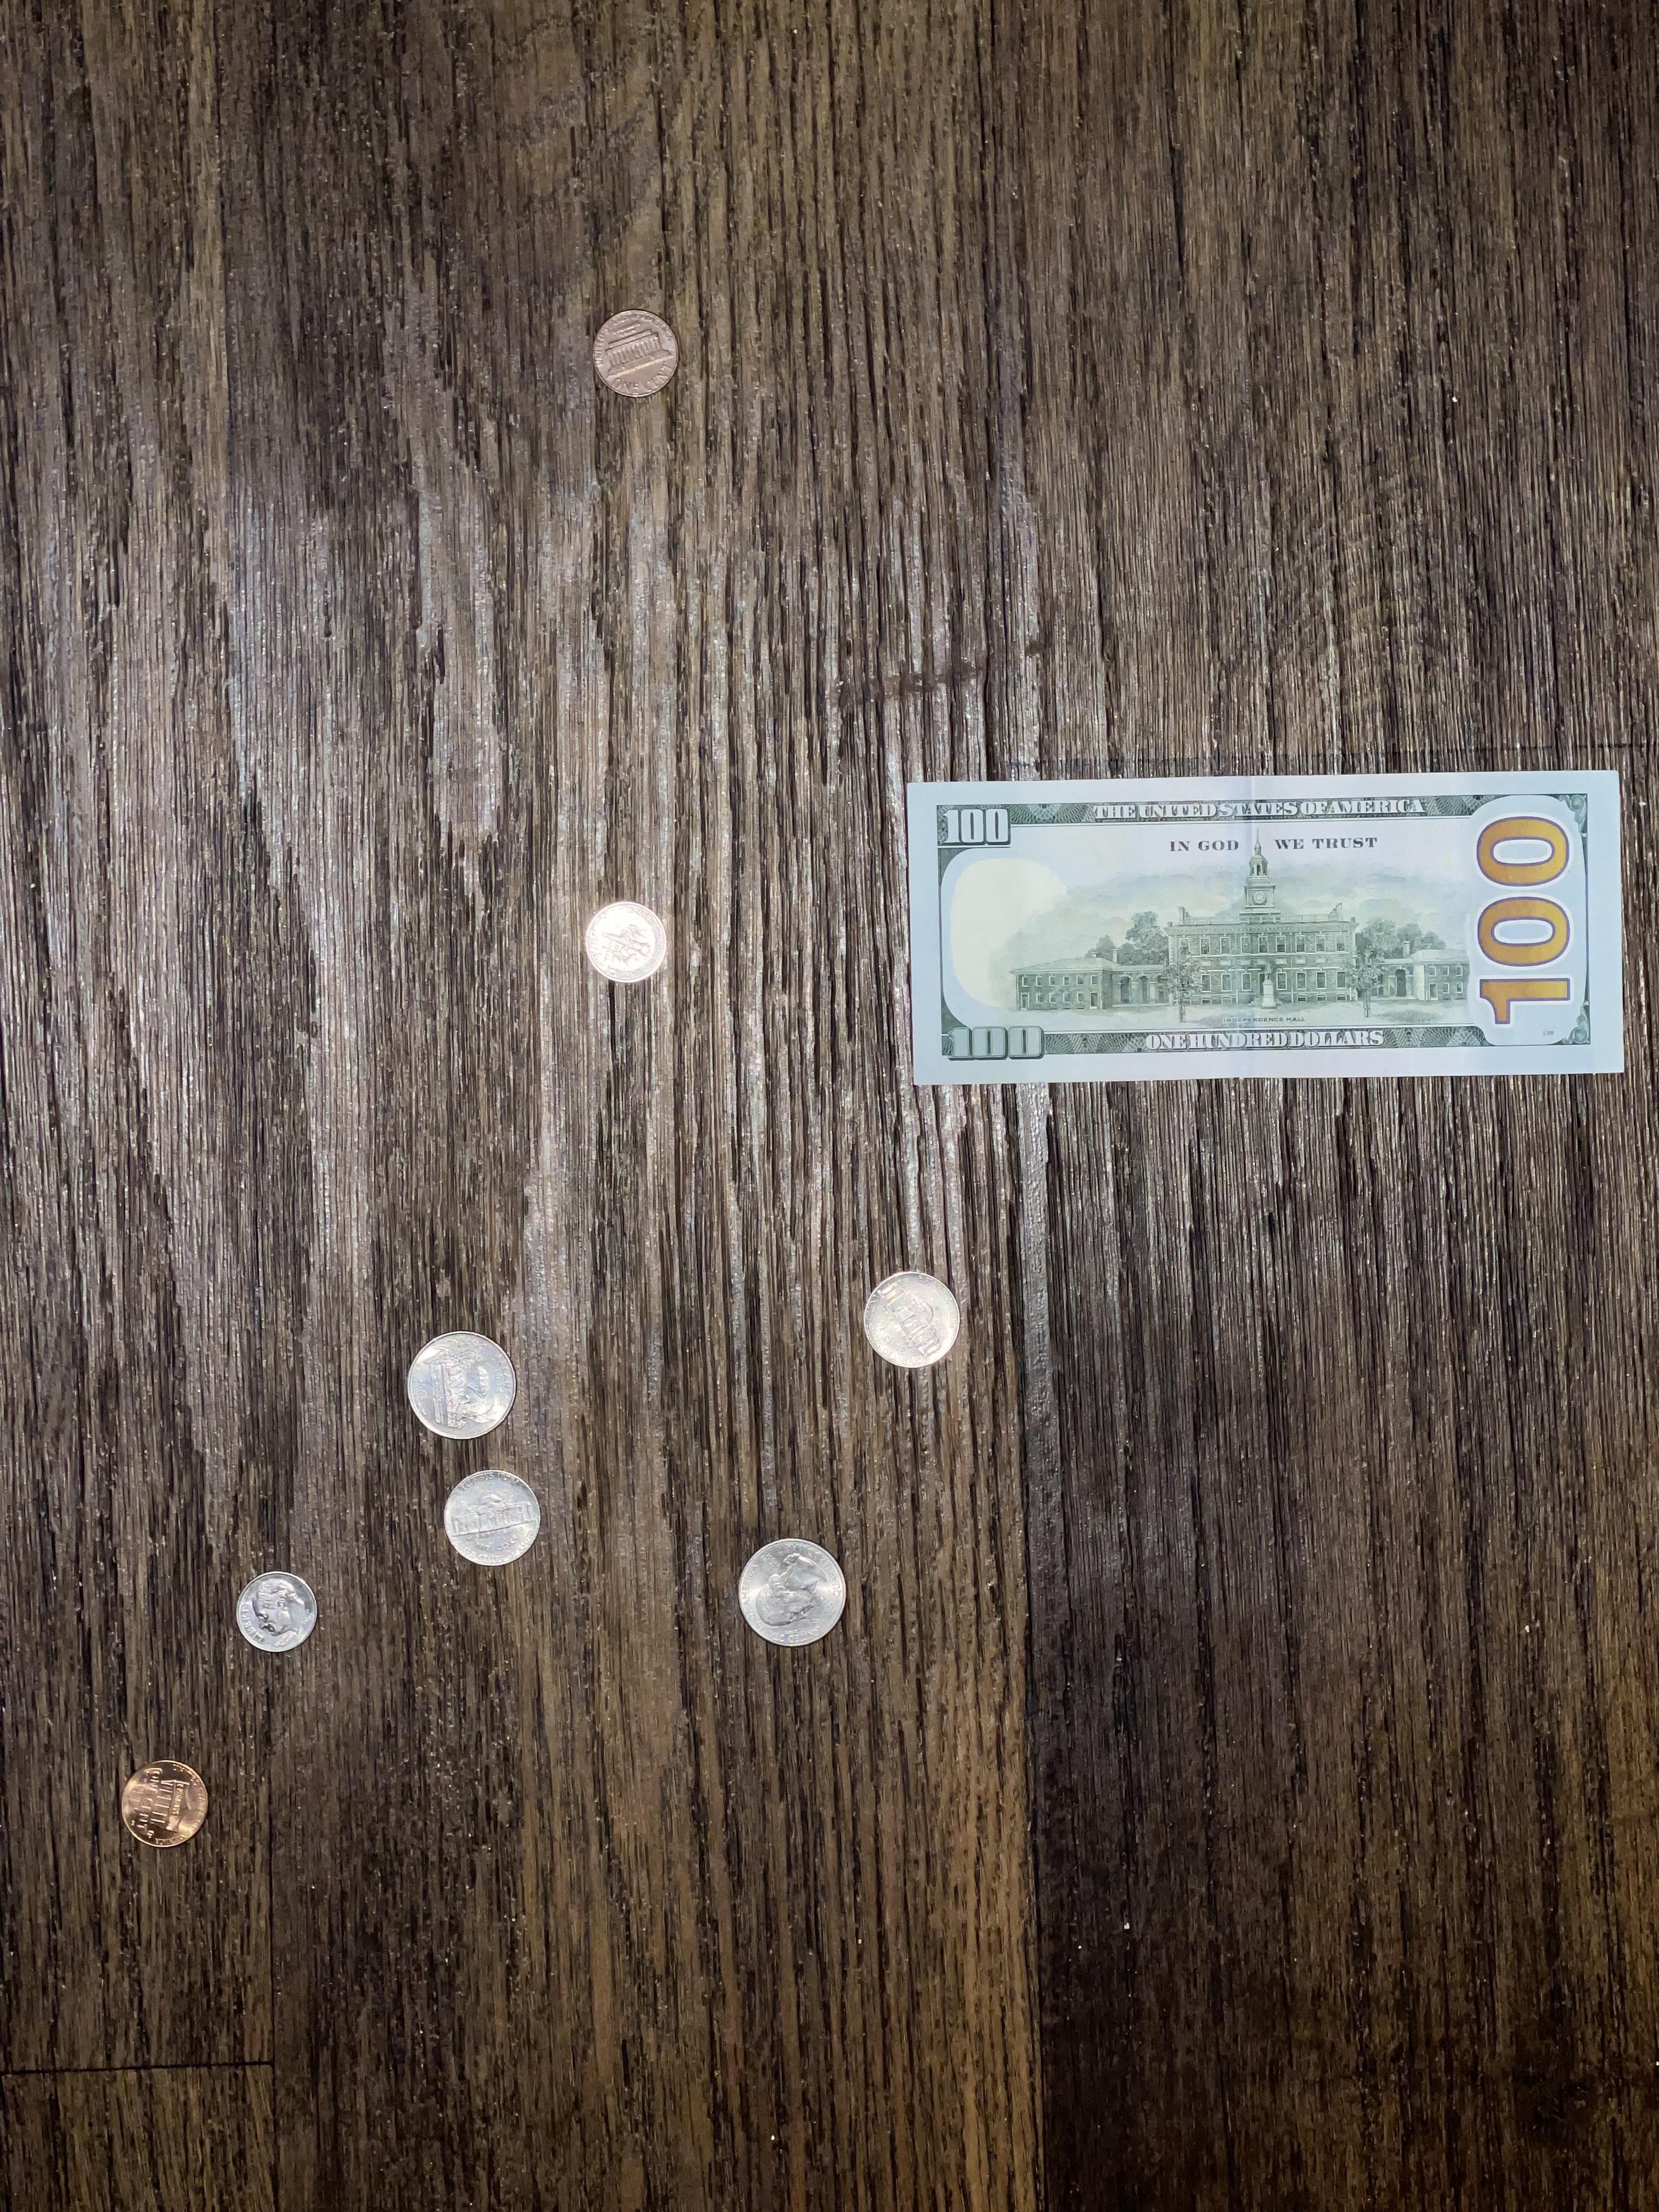Dime: (584, 900, 666, 984), (235, 1571, 319, 1653)
HundredBill: (903, 768, 1626, 1089)
Nickel: (863, 1270, 960, 1371), (443, 1470, 540, 1568)
Penny: (589, 308, 680, 399), (120, 1761, 209, 1848)
Quarter: (408, 1331, 518, 1440), (737, 1538, 847, 1648)
